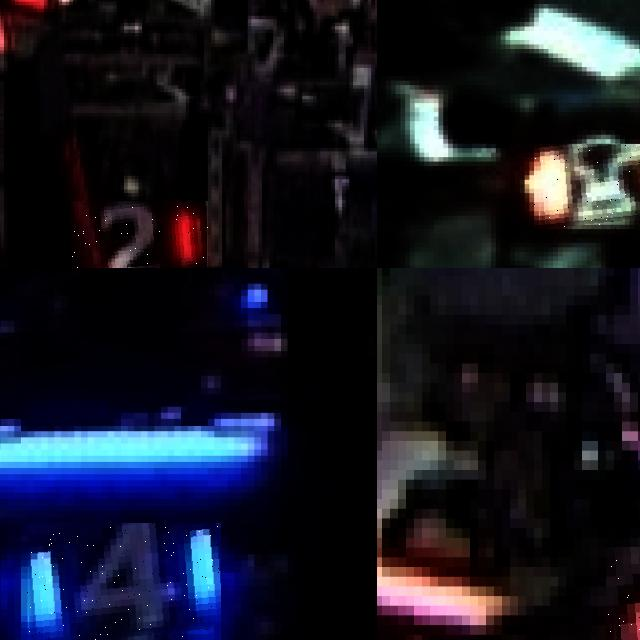B4: (21, 523, 221, 640)
R2: (71, 201, 209, 268)
Rs: (534, 143, 640, 229)
